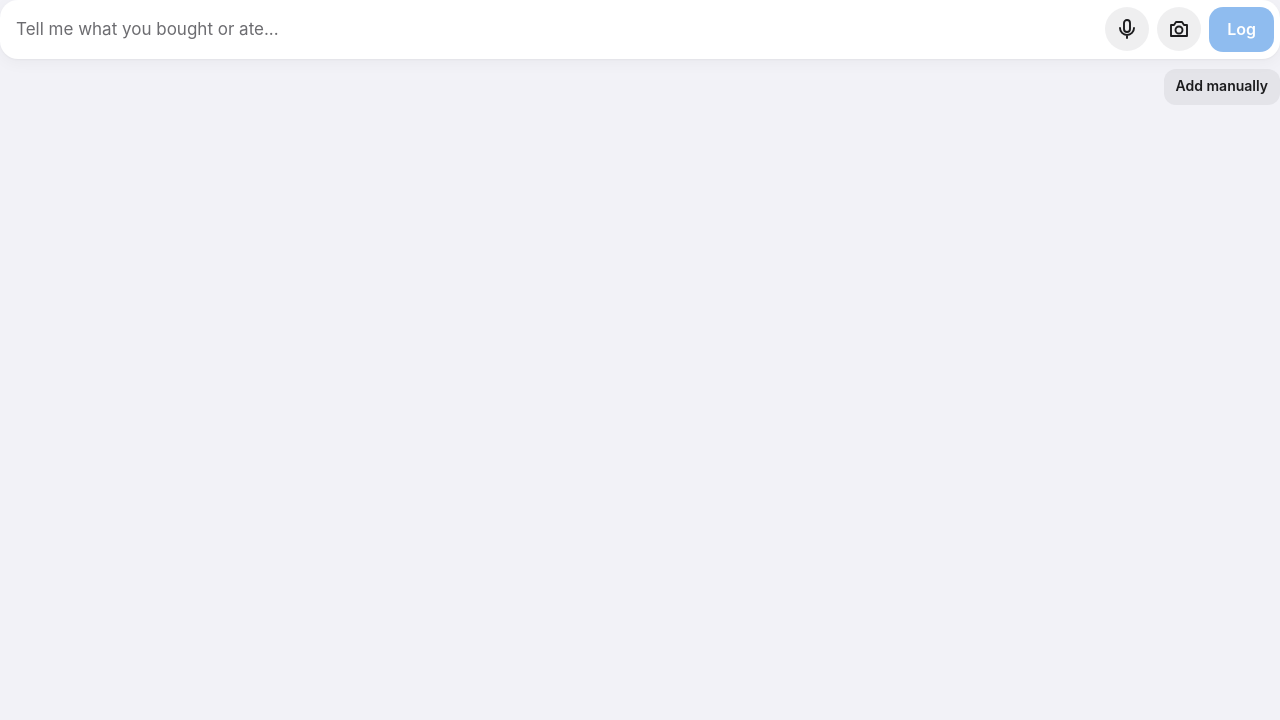
Test: review editor auto-finds macros online (mocked fetch) › fills calories and macros from the top online match
Click the button "Add manually" at point(1222, 87), box [1164,69,1279,105]
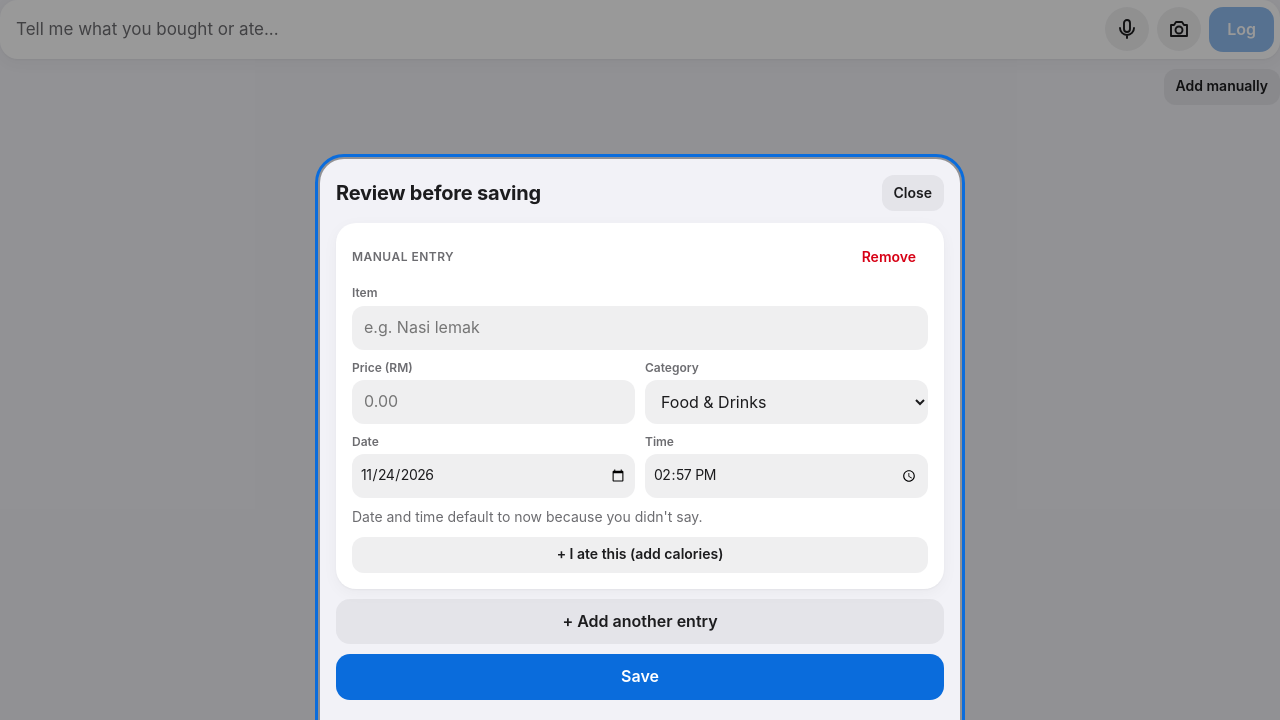
Type "Munchy oat crackers" into the field with placeholder "e.g. Nasi lemak" at point(640, 328), box [352,306,928,350]
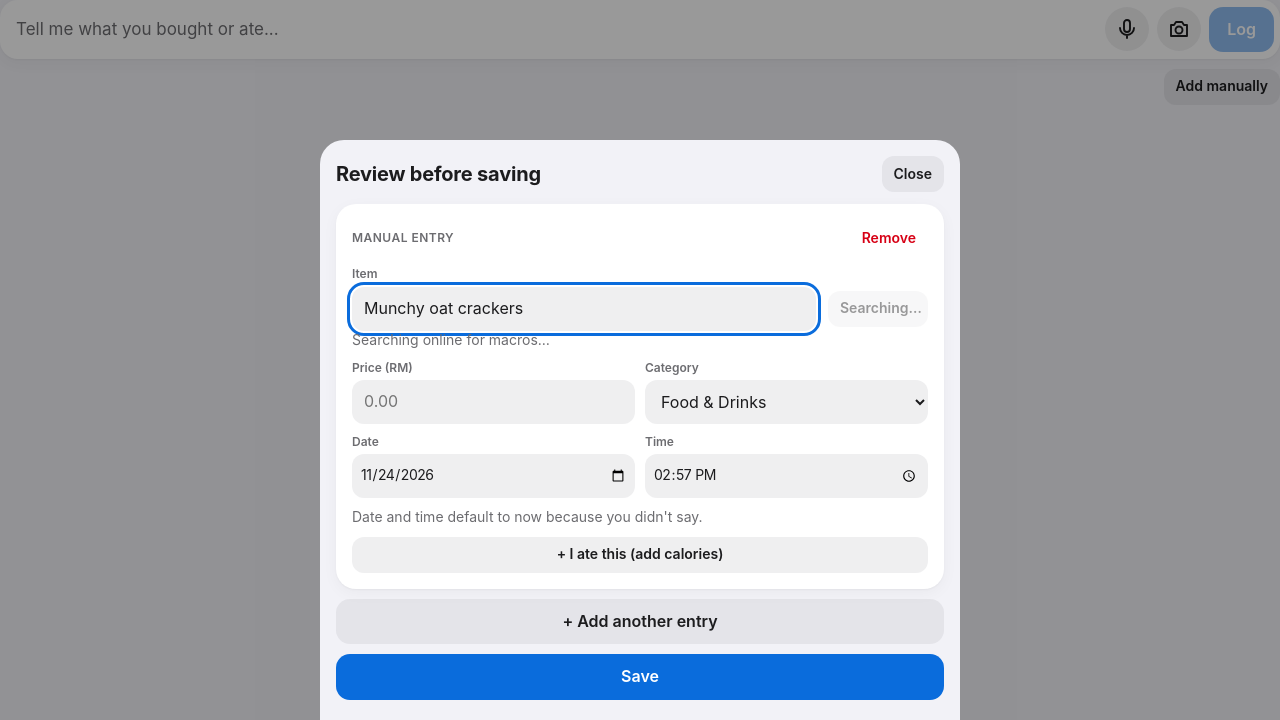
Click the button "+ I ate this (add calories)" at point(640, 555), box [352,537,928,573]
(page scrolled)
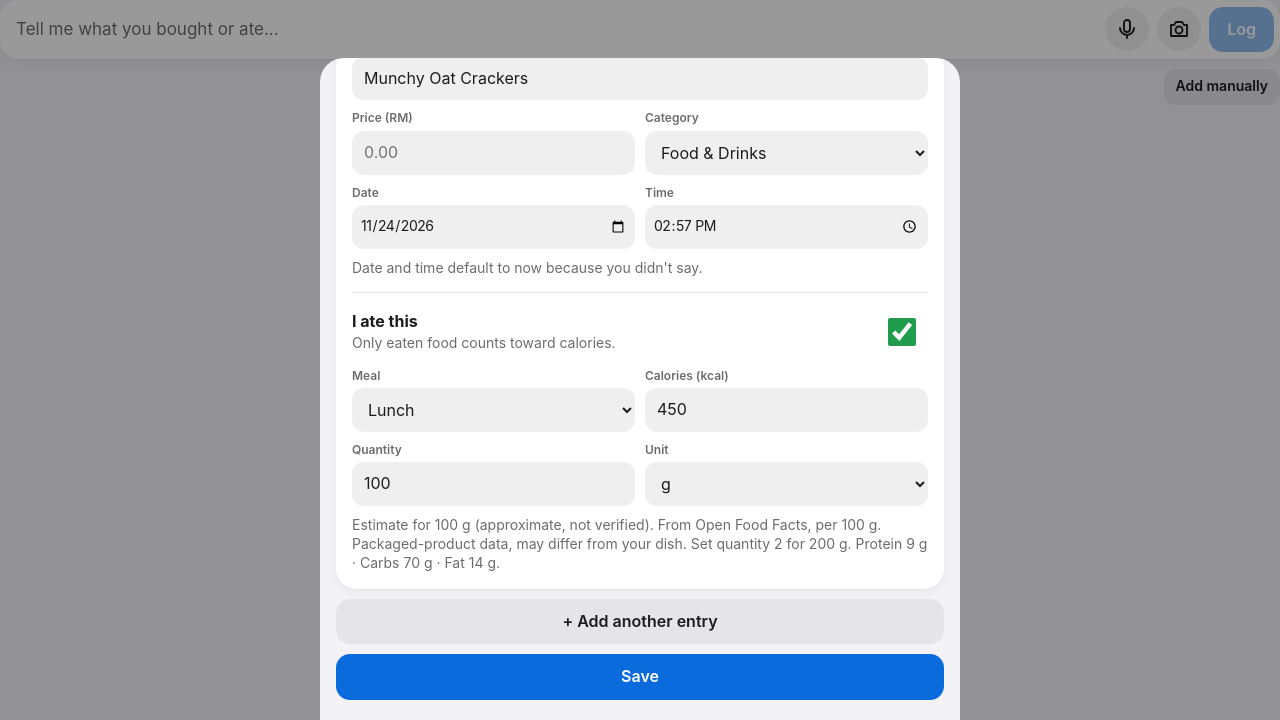
expect the field labelled "Calories (kcal)" holds "450": met, box [645,388,928,432]
expect the text "Protein 9 g" is shown: met, box [352,516,928,573]
